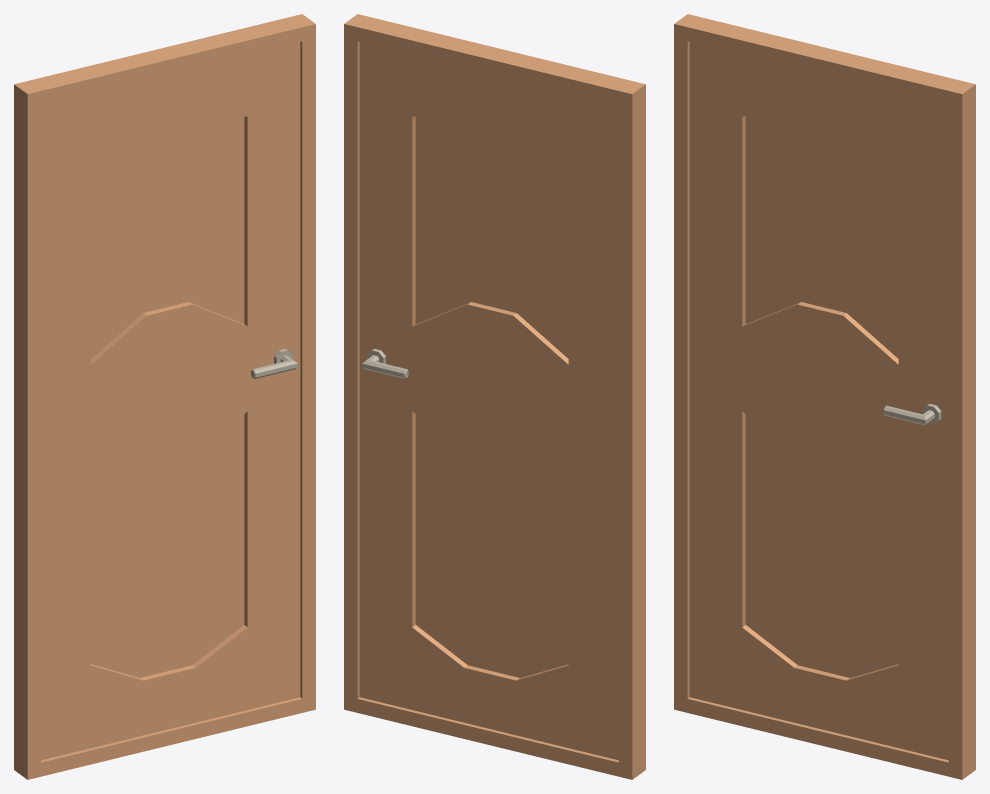
File: Mesh_Door_D13.fbx
3 renders of one model, left to right at view 1: azimuth 30°, elevation 25°; view 2: azimuth 150°, elevation 25°; view 3: azimuth 330°, elevation 25°, orthographic.
Parts seen in each view (by area): view 1: Mesh_Door_D13; view 2: Mesh_Door_D13; view 3: Mesh_Door_D13.
Boxes of the visible parts, box(x1,y1,x2,y2) form: Mesh_Door_D13: box(14, 14, 315, 779); Mesh_Door_D13: box(344, 14, 645, 779); Mesh_Door_D13: box(674, 14, 975, 779).
Bounding box in the file's own units: 0.9 × 2.05 × 0.1742.
